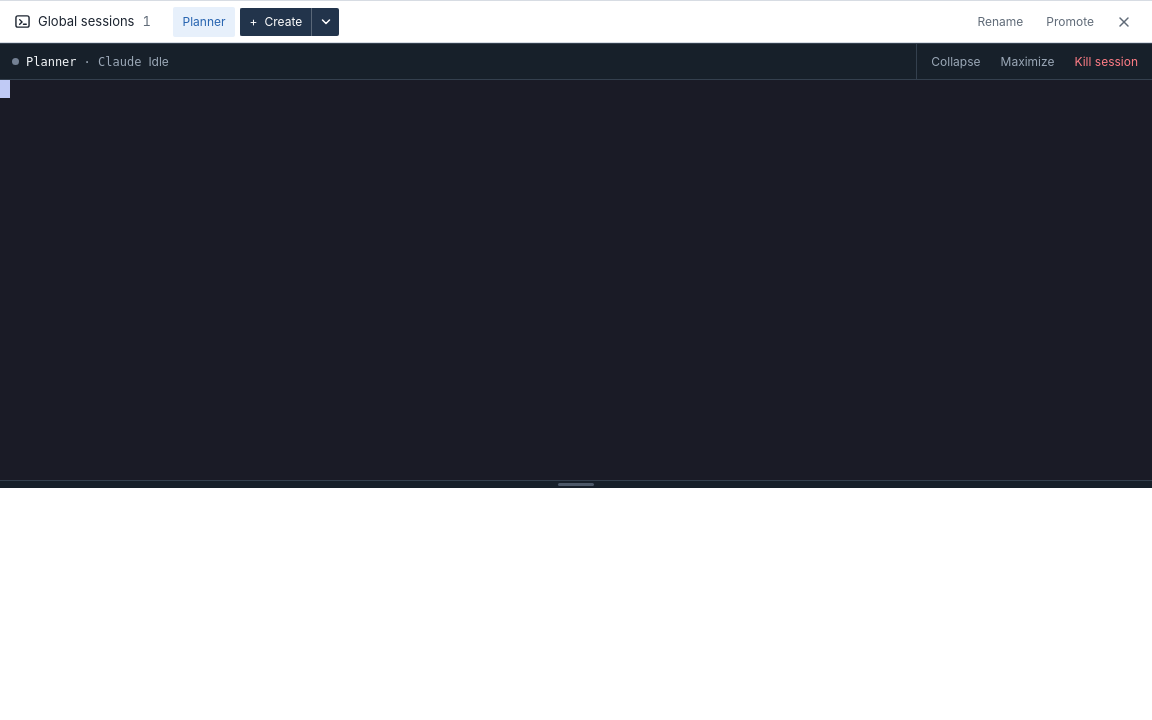
keeps the relevant global session controls available in each size
Check: the button "Rename" is shown, box x1=968 y1=7 x2=1032 y2=36
Check: the button "Promote" is shown, box x1=1037 y1=7 x2=1103 y2=36
Click the button "Maximize" at coordinates (1027, 62), box x1=992 y1=50 x2=1062 y2=74
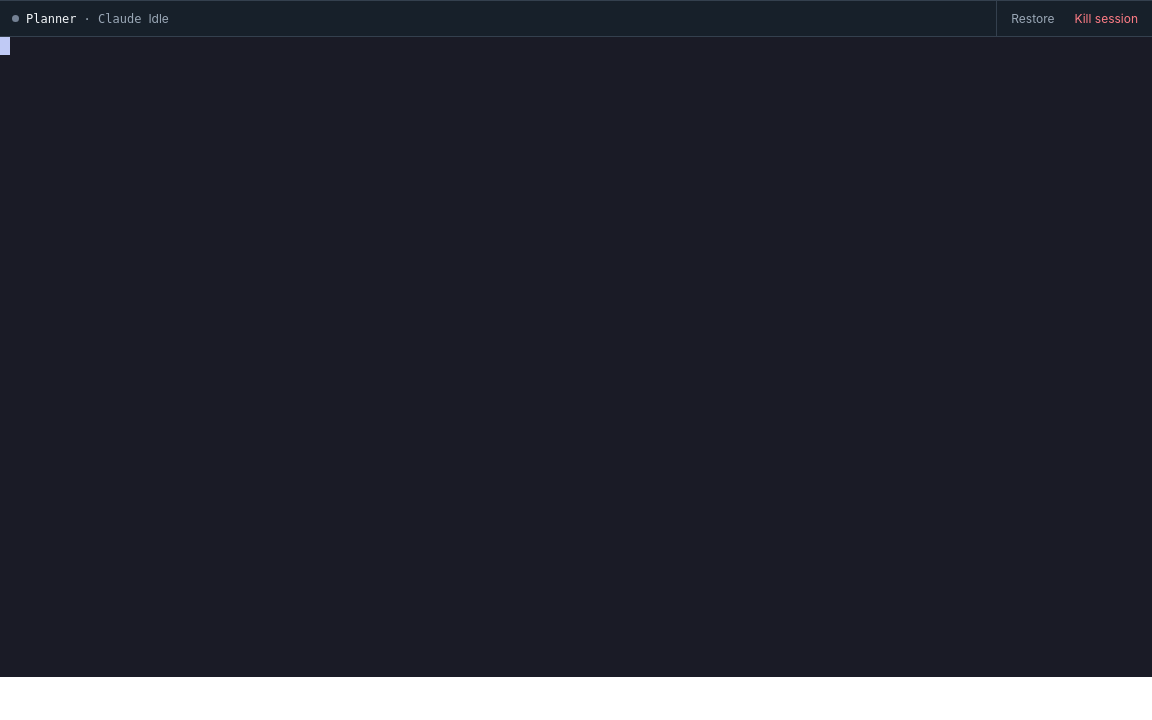
Check: the button "Restore" is shown
Click the button "Restore" at coordinates (1033, 18), box x1=1003 y1=6 x2=1062 y2=30
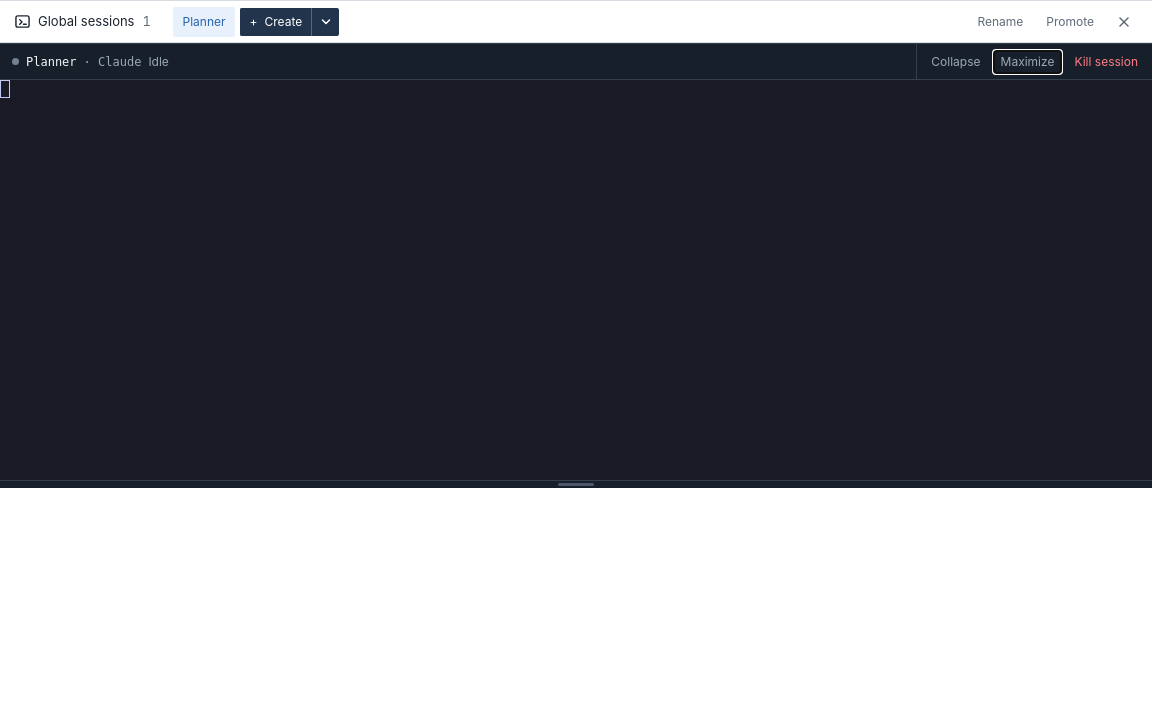
Check: the button "Maximize" is shown, box x1=992 y1=50 x2=1062 y2=74
Check: the element named "Resize terminal" is shown, box x1=0 y1=480 x2=1151 y2=488
